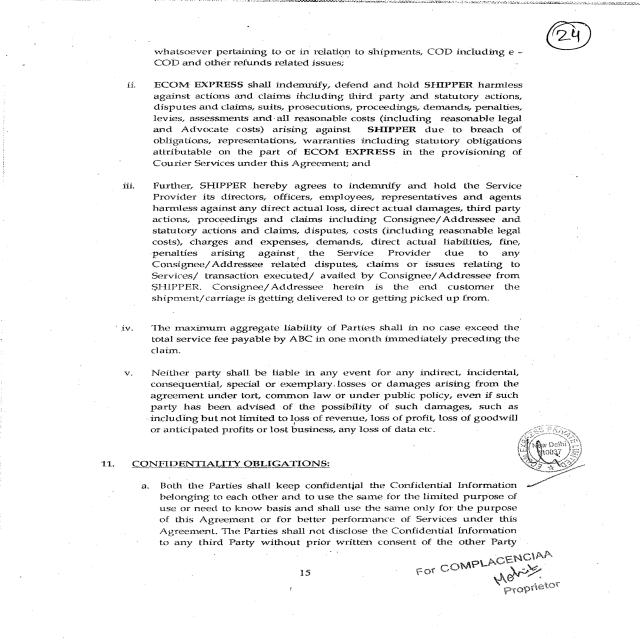page-number: (520, 0, 640, 75)
